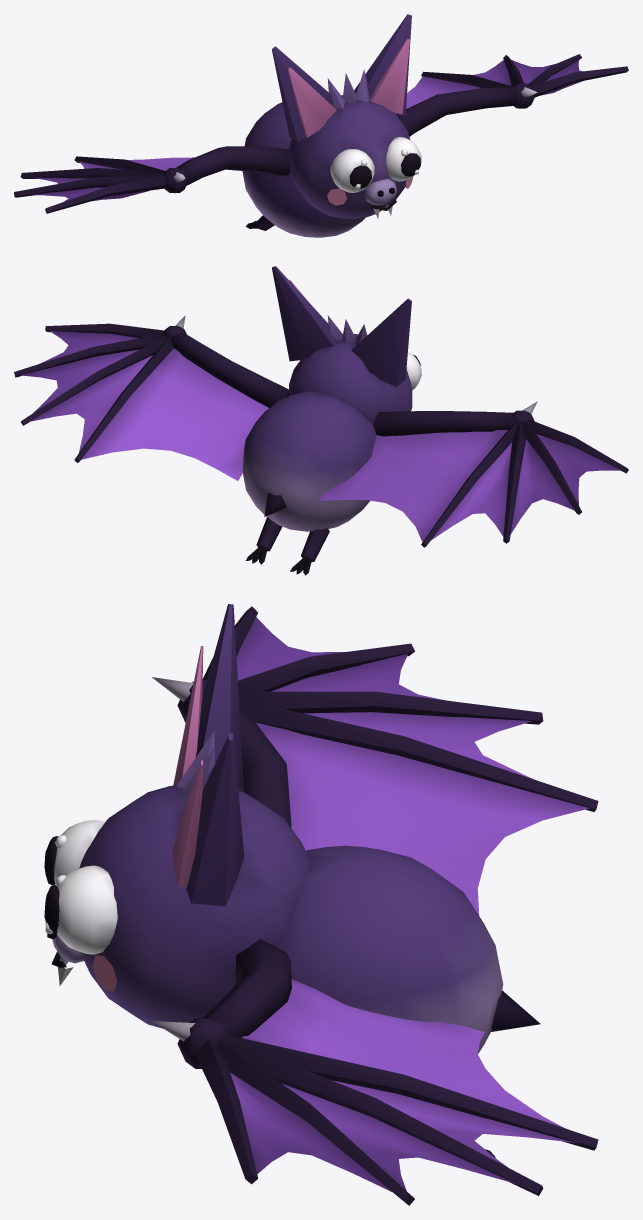
The model's file is flyer_haunted.glb.
The picture shows the model from 3 angles, top to bottom: view 1: azimuth 30°, elevation 25°; view 2: azimuth 150°, elevation 25°; view 3: azimuth 270°, elevation 25°; orthographic projection. The views are drawn at different scales.
Visible parts, largest first — view 1: body, wing_R, wing_L; view 2: body, wing_L, wing_R; view 3: body, wing_R, wing_L.
Boxes of the visible parts, box(x1,y1,x2,y2) form: body: box(242, 14, 421, 237); wing_R: box(14, 146, 290, 213); wing_L: box(395, 54, 628, 136); body: box(242, 266, 421, 575); wing_L: box(14, 315, 289, 480); wing_R: box(319, 401, 628, 547); body: box(44, 604, 540, 1157); wing_R: box(152, 606, 598, 915); wing_L: box(152, 939, 598, 1205).
Bounding box in the file's own units: 1.44 × 0.5647 × 0.5951.
